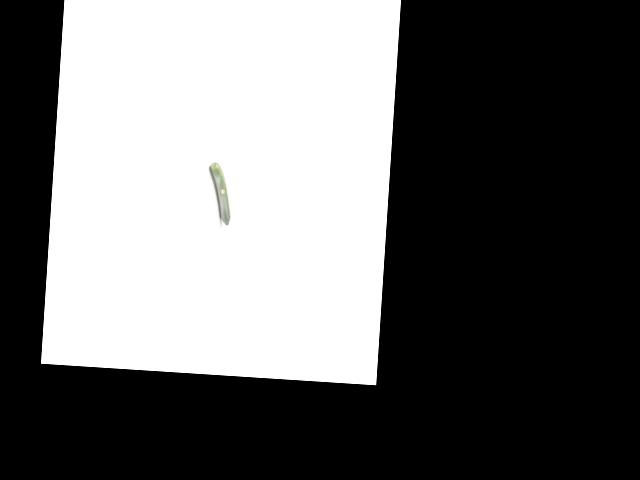cucumber: (206, 161, 233, 225)
